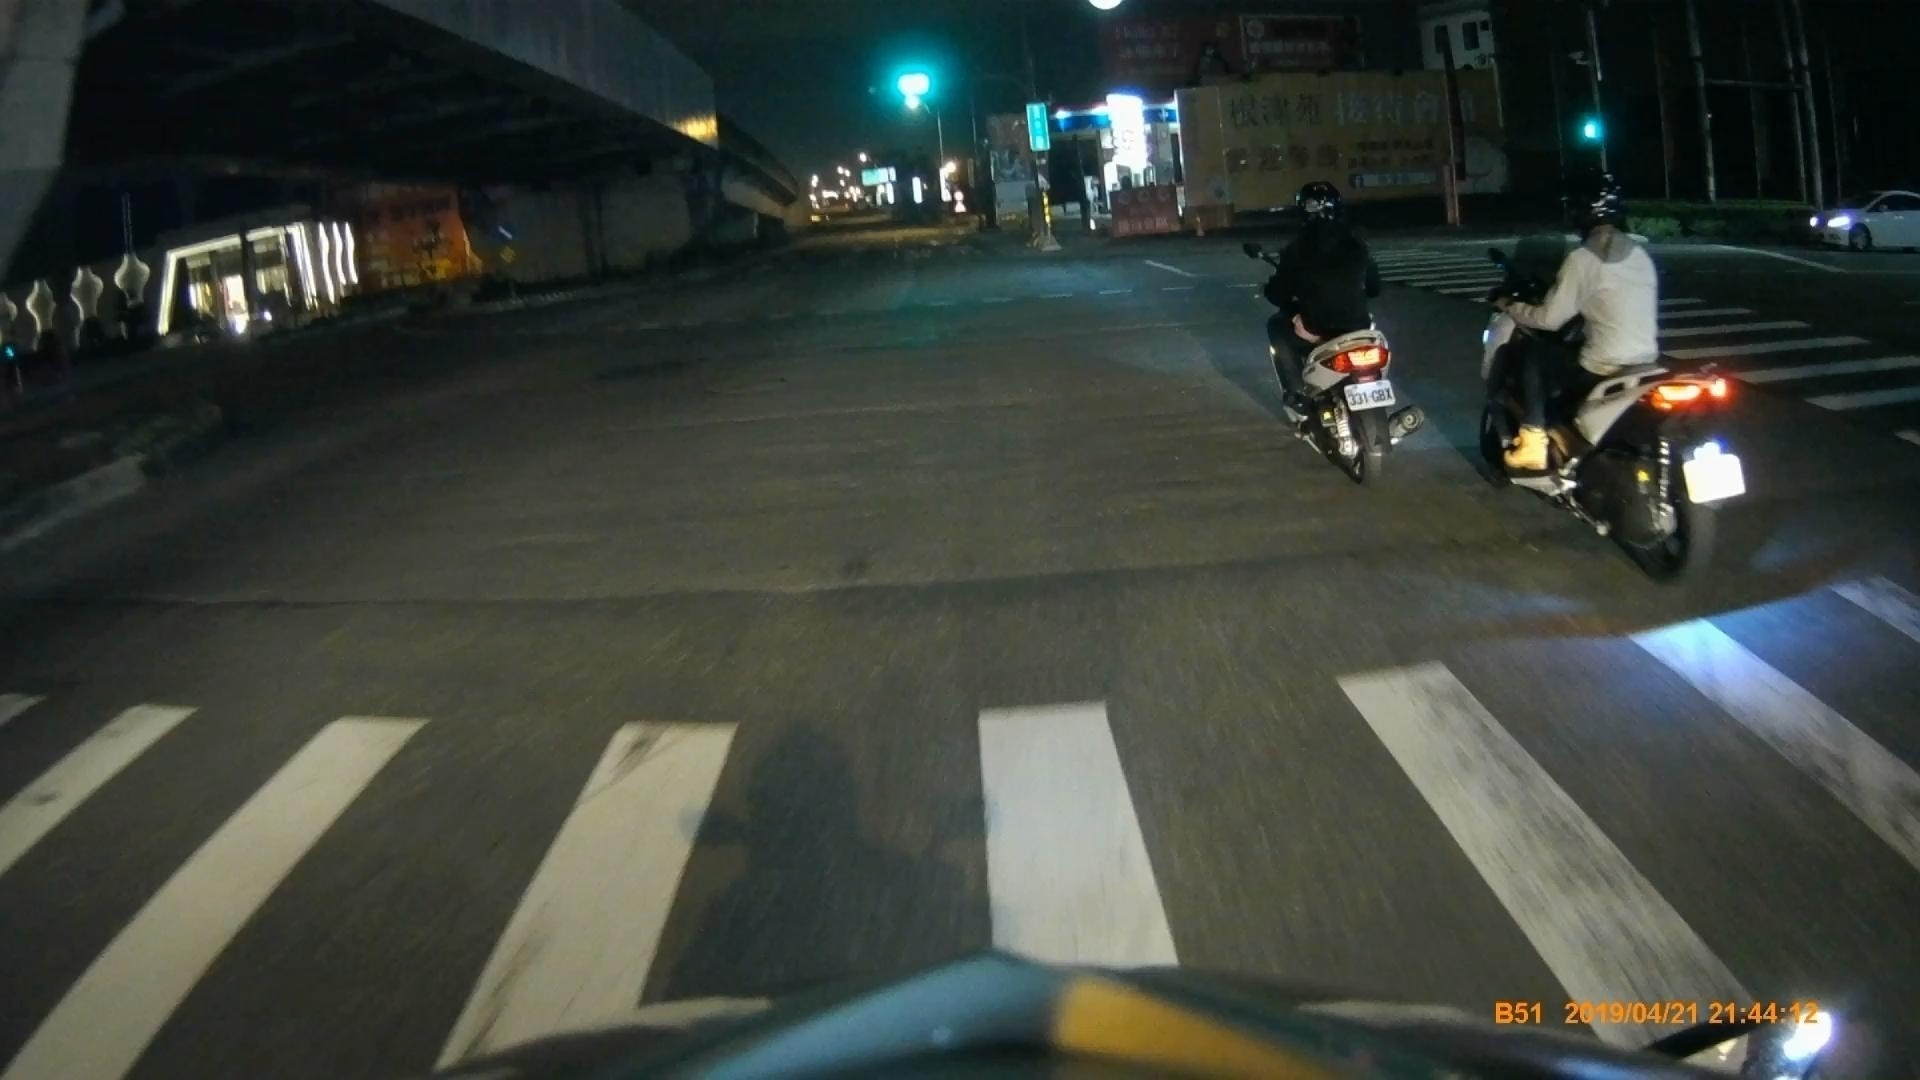License_plate: (1677, 459, 1751, 502), (1345, 383, 1399, 411)
